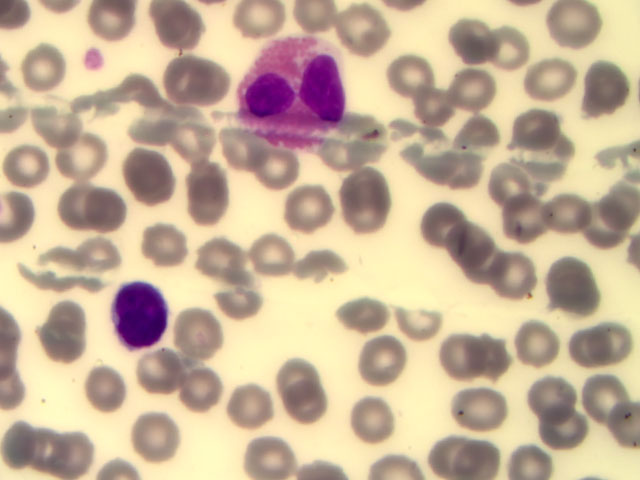Platelets: (78, 47, 108, 75)
RBC: (455, 389, 506, 433), (23, 45, 70, 90), (39, 98, 86, 143), (56, 137, 103, 182), (6, 145, 53, 190), (51, 185, 98, 230), (84, 192, 131, 237), (118, 155, 165, 200), (187, 172, 234, 217), (123, 149, 170, 194), (172, 57, 219, 102), (158, 2, 205, 47), (343, 6, 390, 51), (238, 1, 285, 46), (386, 50, 433, 95), (409, 91, 456, 136), (452, 70, 499, 115), (448, 18, 495, 63), (484, 30, 531, 75), (528, 59, 575, 104), (584, 65, 631, 110), (514, 114, 561, 159), (462, 112, 509, 157), (438, 158, 485, 203), (413, 142, 460, 187), (489, 161, 536, 206), (506, 193, 553, 238), (539, 187, 586, 232), (573, 205, 620, 250), (553, 260, 600, 305), (491, 258, 538, 303), (473, 248, 520, 293), (447, 225, 494, 270), (425, 202, 472, 247), (345, 174, 392, 219), (291, 181, 338, 226), (257, 146, 304, 191), (250, 229, 297, 274), (203, 241, 250, 286), (145, 222, 192, 267), (215, 286, 262, 331), (181, 311, 228, 356), (139, 349, 186, 394), (178, 369, 225, 414), (137, 418, 184, 463), (81, 369, 128, 414), (37, 312, 84, 357), (57, 433, 104, 478), (25, 426, 72, 471), (3, 422, 50, 467), (247, 434, 294, 479), (229, 382, 276, 427), (286, 387, 333, 432), (280, 358, 327, 403), (343, 396, 390, 441), (363, 340, 410, 385), (366, 295, 413, 340), (398, 295, 445, 340), (442, 337, 489, 382), (475, 332, 522, 377), (510, 319, 557, 364), (556, 328, 603, 373), (593, 322, 640, 367), (576, 369, 623, 414), (545, 408, 592, 453), (532, 376, 579, 421), (503, 435, 550, 480), (459, 435, 506, 480), (552, 1, 599, 45), (425, 436, 469, 480)
WBC: (240, 40, 346, 151), (109, 283, 174, 348)
